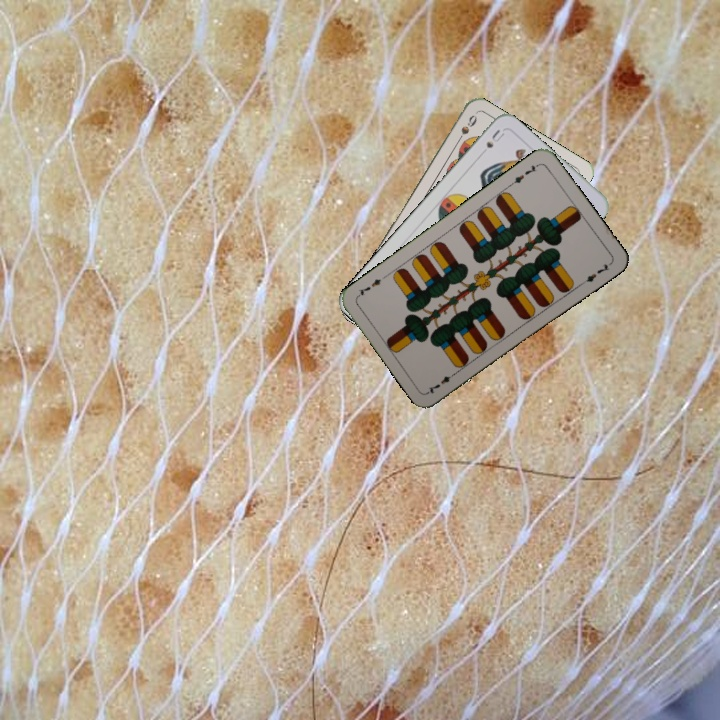E7: (424, 367, 460, 396), (506, 160, 542, 188)
S9: (452, 111, 480, 147)
SU: (482, 125, 507, 151)
